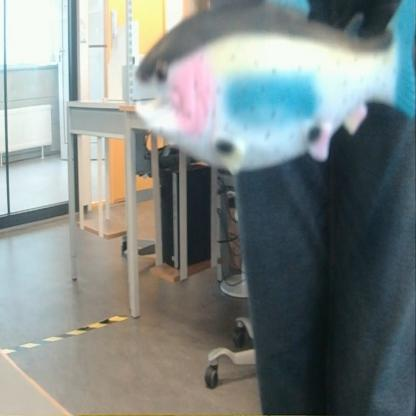rubberfish: (130, 0, 416, 193)
